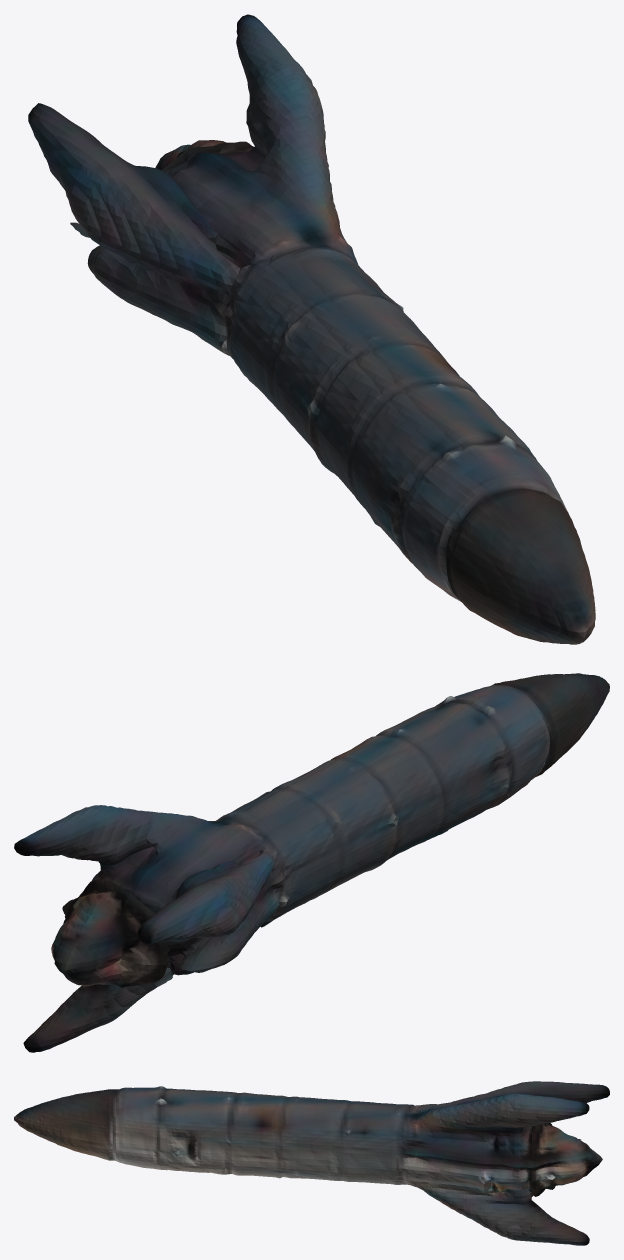
The picture shows the model from 3 angles, top to bottom: view 1: azimuth 30°, elevation 25°; view 2: azimuth 150°, elevation 25°; view 3: azimuth 270°, elevation 25°; orthographic projection. The views are drawn at different scales.
Size of the model in its own units: 0.2587 by 0.2589 by 0.9532.
